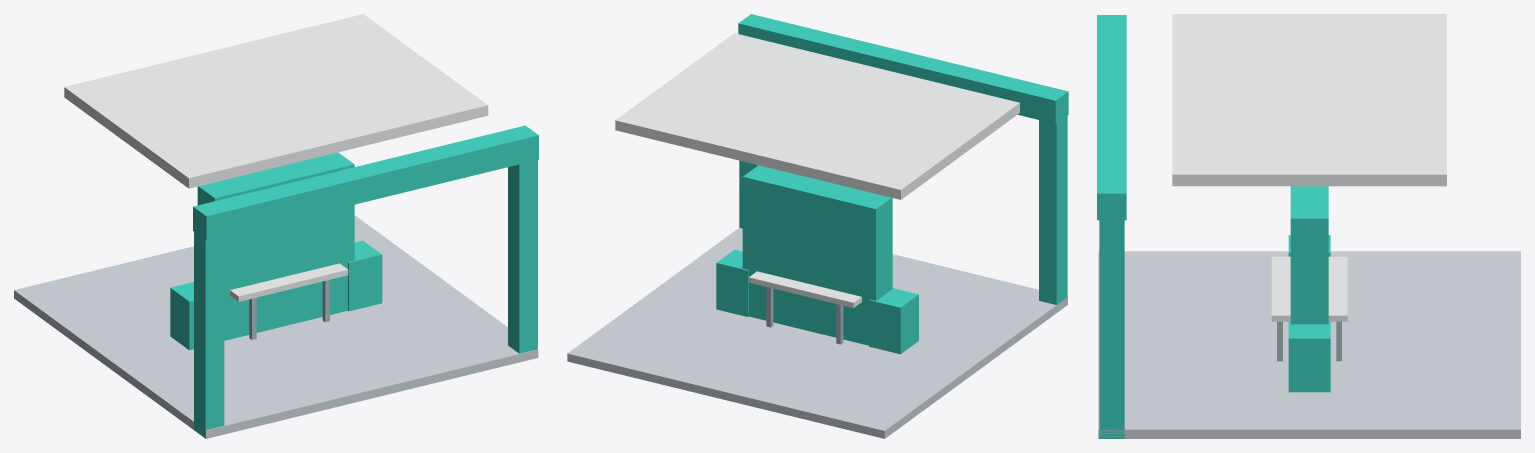
3 renders of one model, left to right at view 1: azimuth 30°, elevation 25°; view 2: azimuth 150°, elevation 25°; view 3: azimuth 270°, elevation 25°, orthographic. The views are drawn at different scales.
Parts seen in each view (by area): view 1: Exhibition Booth Concept; view 2: Exhibition Booth Concept; view 3: Exhibition Booth Concept.
Boxes of the visible parts, x1,y1,x2,y2 form: Exhibition Booth Concept: [14, 14, 538, 438]; Exhibition Booth Concept: [567, 14, 1068, 438]; Exhibition Booth Concept: [1097, 14, 1520, 438].
Bounding box in the file's own units: 5 × 3.34 × 5.02.
